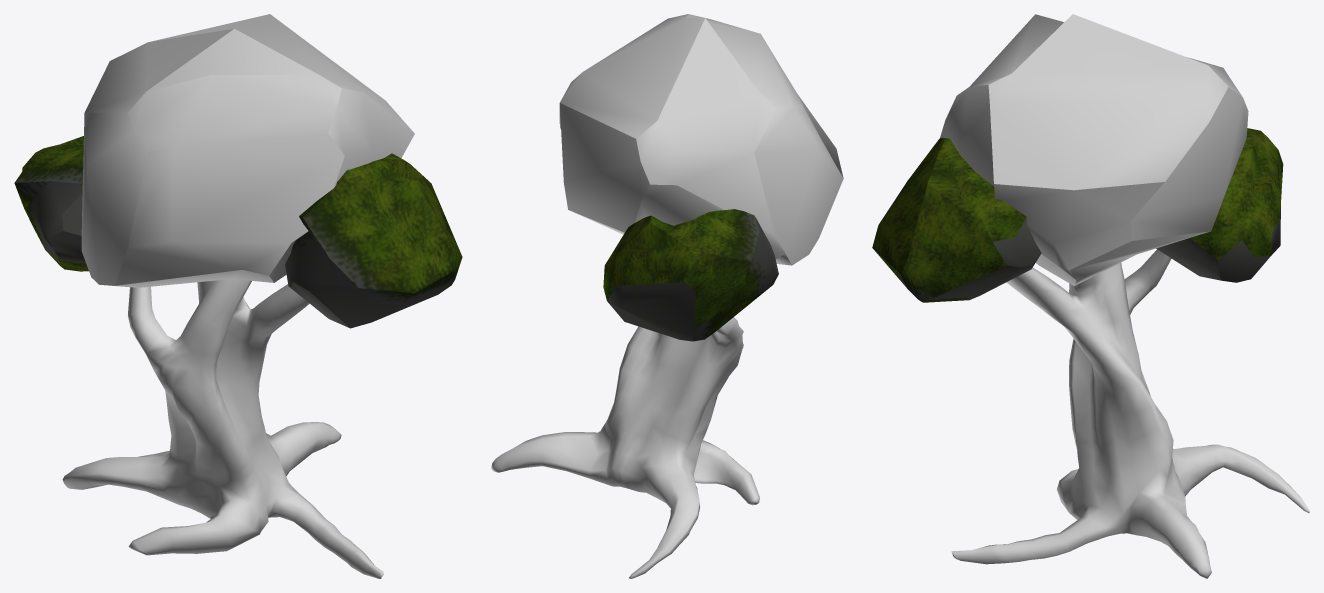
Rendered from Tree_aarons_FINAL.fbx.
3 views of the same model, side by side, from view 1: azimuth 30°, elevation 25°; view 2: azimuth 150°, elevation 25°; view 3: azimuth 270°, elevation 25° (orthographic). The views are drawn at different scales.
Visible parts, largest first — view 1: pPlatonic1, Tree_aarons:polySurface1_polySurface1, pPlatonic2, pPlatonic3; view 2: pPlatonic1, Tree_aarons:polySurface1_polySurface1, pPlatonic3; view 3: pPlatonic1, Tree_aarons:polySurface1_polySurface1, pPlatonic2, pPlatonic3.
Boxes of the visible parts, box(x1,y1,x2,y2) form: pPlatonic1: box(81, 14, 414, 287); Tree_aarons:polySurface1_polySurface1: box(62, 279, 383, 578); pPlatonic2: box(285, 153, 462, 328); pPlatonic3: box(14, 136, 88, 271); pPlatonic1: box(559, 14, 843, 265); Tree_aarons:polySurface1_polySurface1: box(491, 317, 759, 578); pPlatonic3: box(603, 209, 778, 341); pPlatonic1: box(940, 14, 1248, 285); Tree_aarons:polySurface1_polySurface1: box(951, 249, 1309, 578); pPlatonic2: box(872, 137, 1041, 302); pPlatonic3: box(1156, 128, 1283, 282).
Size of the model in its own units: 19.21 by 31.76 by 24.38.
